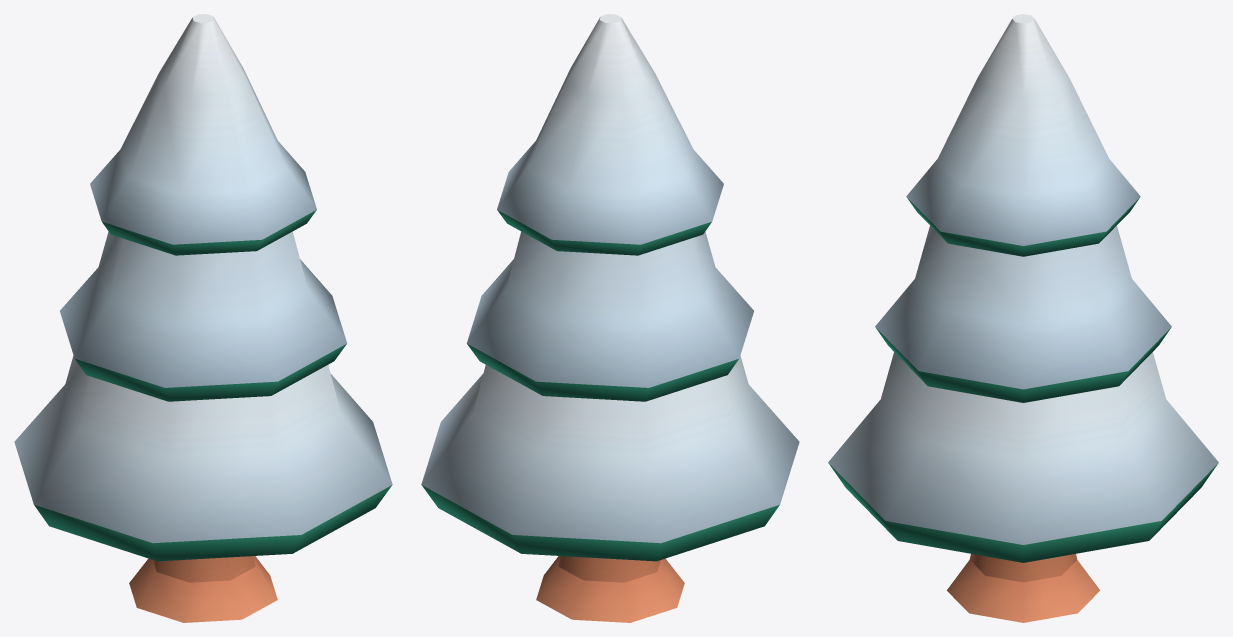
The model's file is holiday-tree-snow-c.glb.
3 views of the same model, side by side, from view 1: azimuth 30°, elevation 25°; view 2: azimuth 150°, elevation 25°; view 3: azimuth 270°, elevation 25° (orthographic).
Visible parts, largest first — view 1: tree-snow-c; view 2: tree-snow-c; view 3: tree-snow-c.
Part boxes in pixels (x1,y1,x2,y2): tree-snow-c: (14, 14, 392, 622); tree-snow-c: (421, 14, 799, 622); tree-snow-c: (828, 14, 1218, 622).
Size of the model in its own units: 1.19 by 1.92 by 1.19.
Materials: 1 (1 with a texture image).
